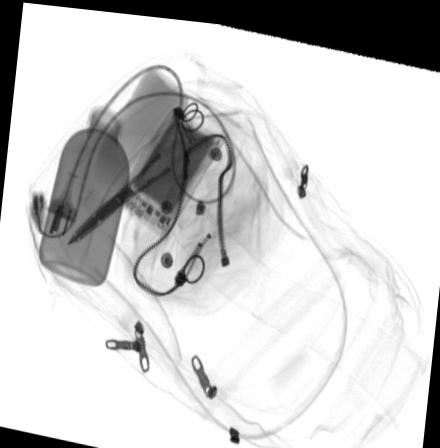Powerbank: (109, 98, 222, 235)
Scissors: (64, 101, 219, 242)
